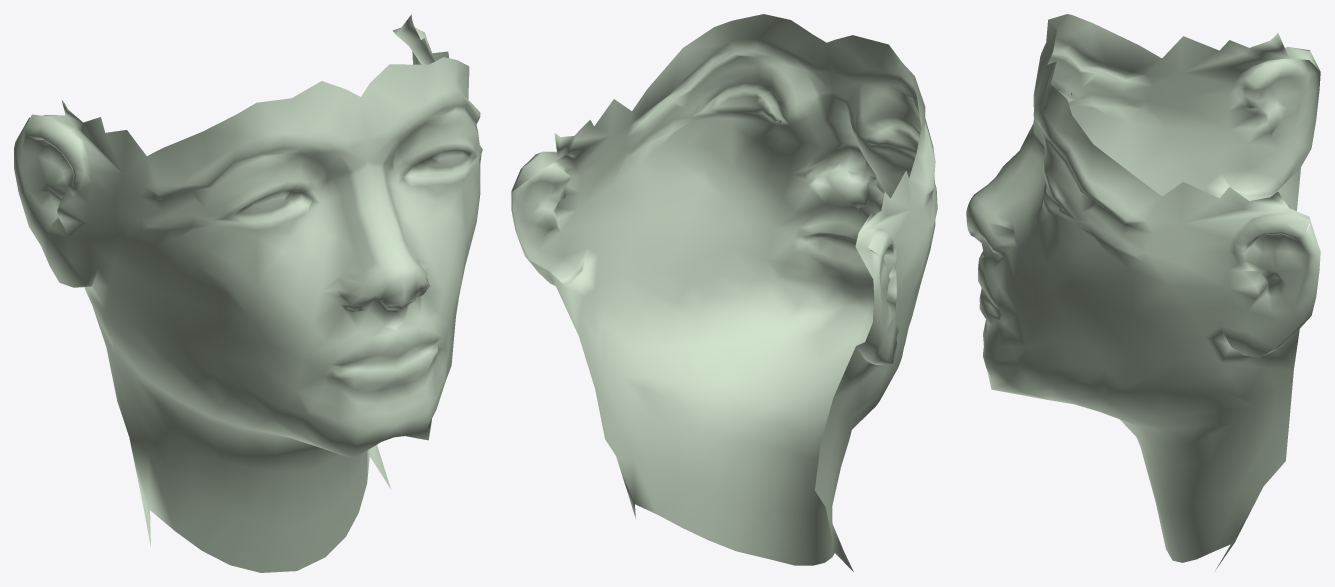
File: egyptian_head_pharao.dae
The picture shows the model from 3 angles, left to right: view 1: azimuth 30°, elevation 25°; view 2: azimuth 150°, elevation 25°; view 3: azimuth 270°, elevation 25°; orthographic projection. The views are drawn at different scales.
Parts seen in each view (by area): view 1: head_pharao; view 2: head_pharao; view 3: head_pharao.
Boxes of the visible parts, left/top/right/bottom form: head_pharao: left=14, top=14, right=482, bottom=572; head_pharao: left=511, top=14, right=937, bottom=571; head_pharao: left=966, top=14, right=1320, bottom=570.
Bounding box in the file's own units: 0.5299 × 0.4314 × 0.6756.
